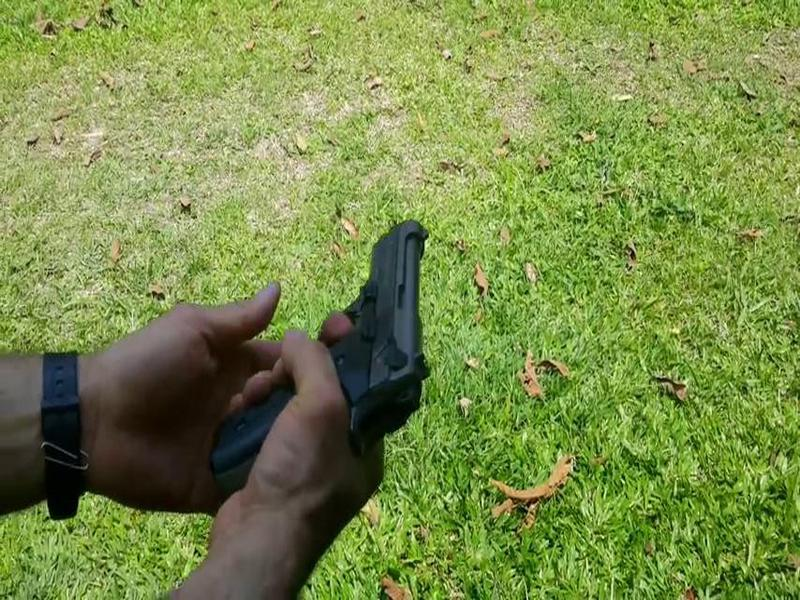Pistola: (215, 207, 432, 488)
